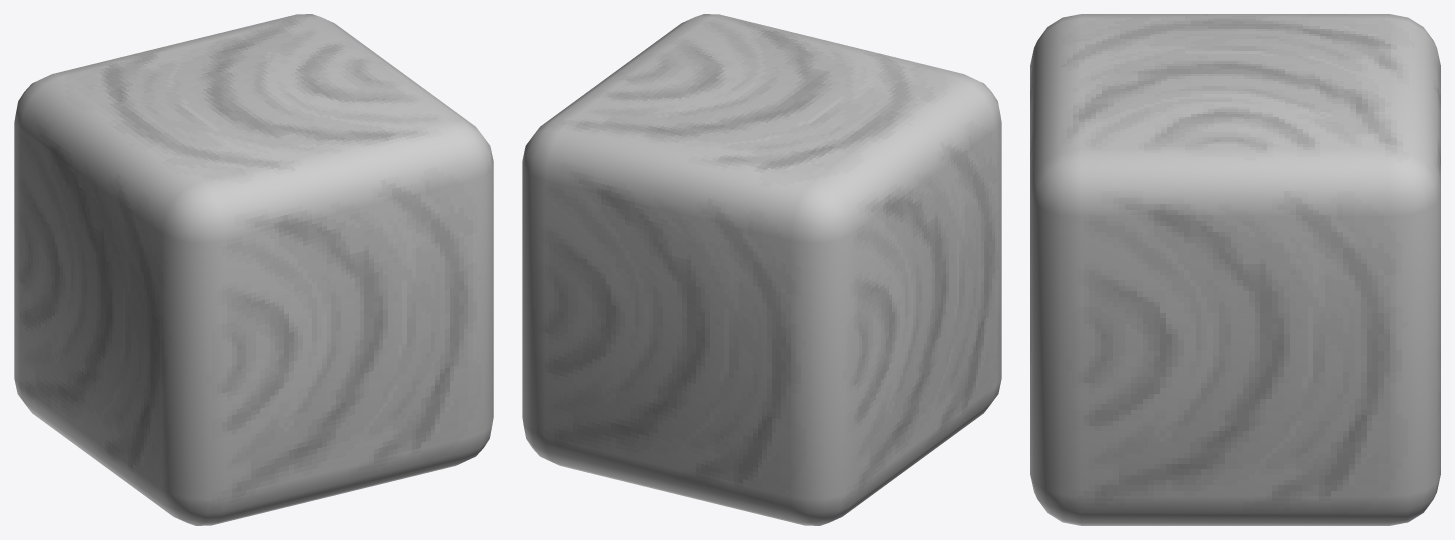
File: UsefulStepWoodBlock1x1x1M.dae
3 views of the same model, side by side, from view 1: azimuth 30°, elevation 25°; view 2: azimuth 150°, elevation 25°; view 3: azimuth 270°, elevation 25° (orthographic). The views are drawn at different scales.
Visible parts, largest first — view 1: UsefulStepWoodBlock1x1x1M; view 2: UsefulStepWoodBlock1x1x1M; view 3: UsefulStepWoodBlock1x1x1M.
Part boxes in pixels (x1=…): UsefulStepWoodBlock1x1x1M: x1=14, y1=14, x2=493, y2=525; UsefulStepWoodBlock1x1x1M: x1=522, y1=14, x2=1001, y2=525; UsefulStepWoodBlock1x1x1M: x1=1030, y1=14, x2=1440, y2=525.
Bounding box in the file's own units: 100 × 100 × 100.
1 material, 1 textured.
